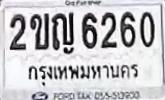0: (139, 12, 154, 46)
2: (9, 13, 25, 49), (100, 11, 116, 47)
6: (120, 11, 136, 47), (81, 12, 96, 48)
A02: (29, 12, 48, 49)
A13: (52, 11, 75, 57)
BKK: (24, 60, 140, 86)
